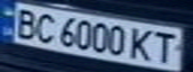0: (106, 22, 130, 58), (90, 20, 112, 55), (72, 18, 93, 52)
6: (54, 16, 78, 48)
B: (9, 7, 42, 39)
C: (30, 11, 60, 44)
K: (127, 26, 157, 63)
T: (148, 29, 181, 65)
